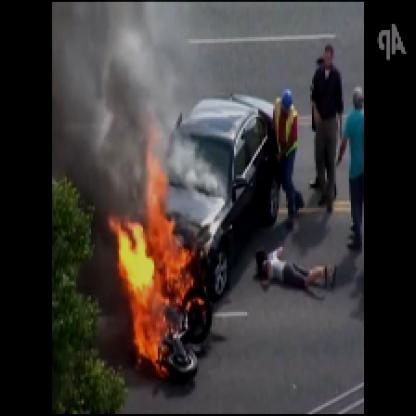Fire: (117, 113, 212, 384)
Smoke: (56, 2, 163, 182)
